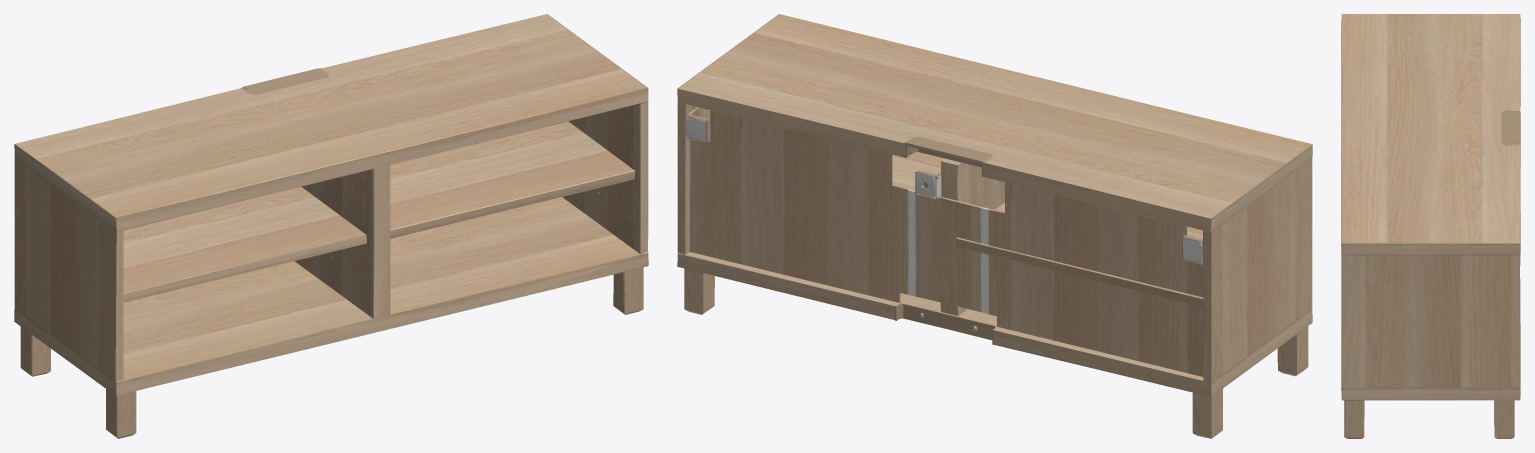
Rendered from besta_szafka_pod_tv_09061230.glb.
3 renders of one model, left to right at view 1: azimuth 30°, elevation 25°; view 2: azimuth 150°, elevation 25°; view 3: azimuth 270°, elevation 25°, orthographic. The views are drawn at different scales.
Visible parts, largest first — view 1: besta_szafka_pod_tv_09061230; view 2: besta_szafka_pod_tv_09061230; view 3: besta_szafka_pod_tv_09061230.
Boxes of the visible parts, bbox=[...] form: besta_szafka_pod_tv_09061230: bbox=[14, 14, 648, 438]; besta_szafka_pod_tv_09061230: bbox=[677, 14, 1312, 438]; besta_szafka_pod_tv_09061230: bbox=[1341, 14, 1520, 438].
Size of the model in its own units: 1.2 by 0.4873 by 0.3967.
Materials: 1 (1 with a texture image).
